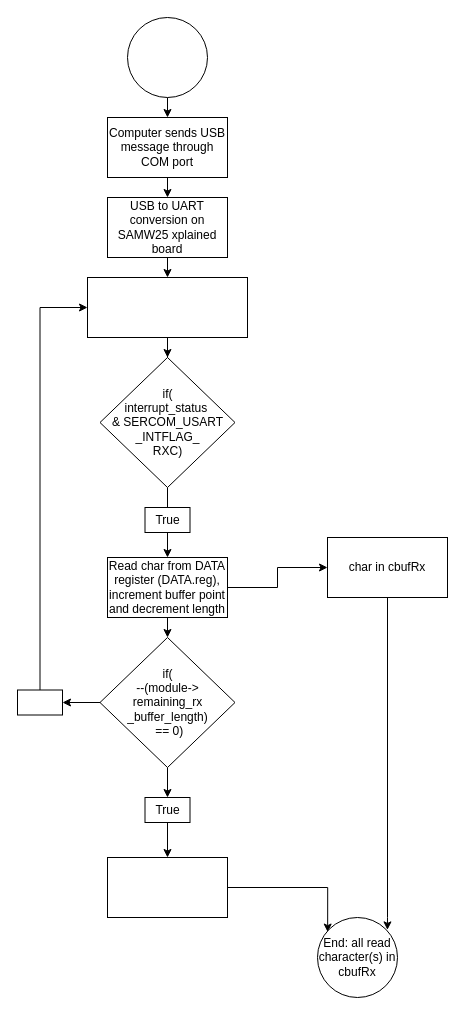
The diagram is 465 pixels wide and 1015 high, and some of its shapes have lost their labels. The shapes that lost their labels are listed below. From the top down, each one's box as (x1, y1, x2, y2) in pixels, then its label:
(126, 16, 208, 98): Start: User types character
(86, 276, 248, 338): USART hardware receives charater with interrupts: _usart_interrupt_handler()
(16, 689, 62, 715): False
(106, 856, 228, 918): Disable RX complete interrupt and set status ok
